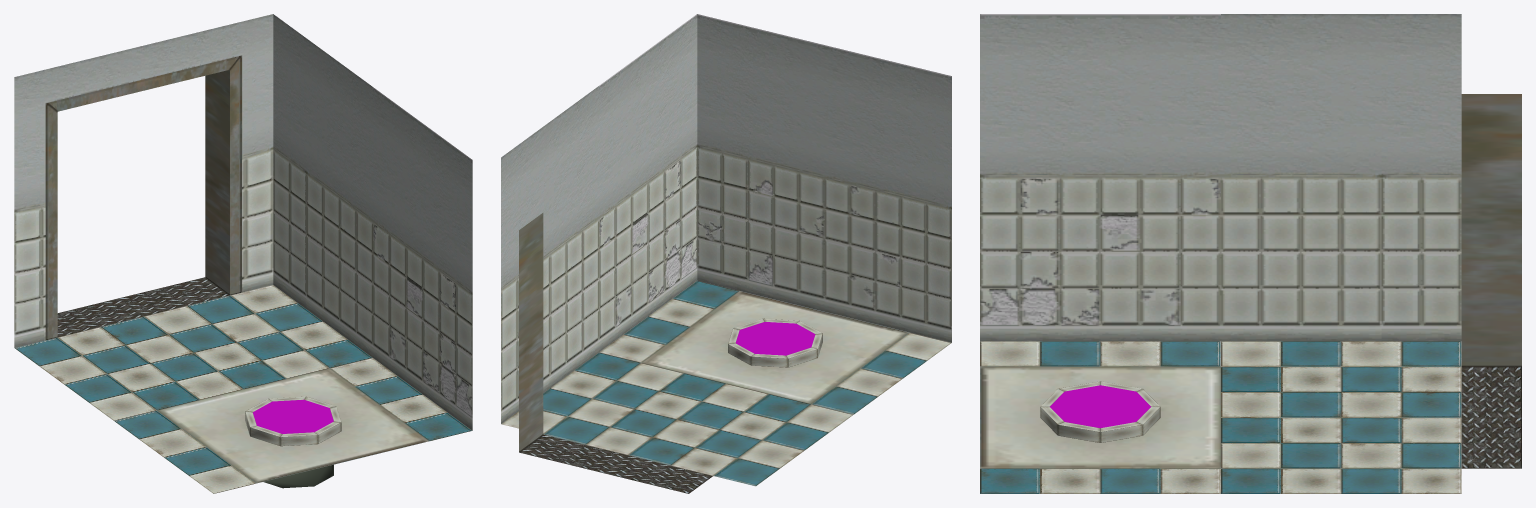
Rendered from ControlTowerInt01F.glb.
The picture shows the model from 3 angles, left to right: view 1: azimuth 30°, elevation 25°; view 2: azimuth 150°, elevation 25°; view 3: azimuth 270°, elevation 25°; orthographic projection. The views are drawn at different scales.
Parts seen in each view (by area): view 1: CONTROLTOWERINT01F; view 2: CONTROLTOWERINT01F; view 3: CONTROLTOWERINT01F.
Part boxes in pixels (bbox=[...]): CONTROLTOWERINT01F: bbox=[14, 14, 472, 493]; CONTROLTOWERINT01F: bbox=[501, 14, 951, 493]; CONTROLTOWERINT01F: bbox=[980, 14, 1521, 493].
Size of the model in its own units: 3 by 3.5 by 4.5.
9 materials, 8 textured.
